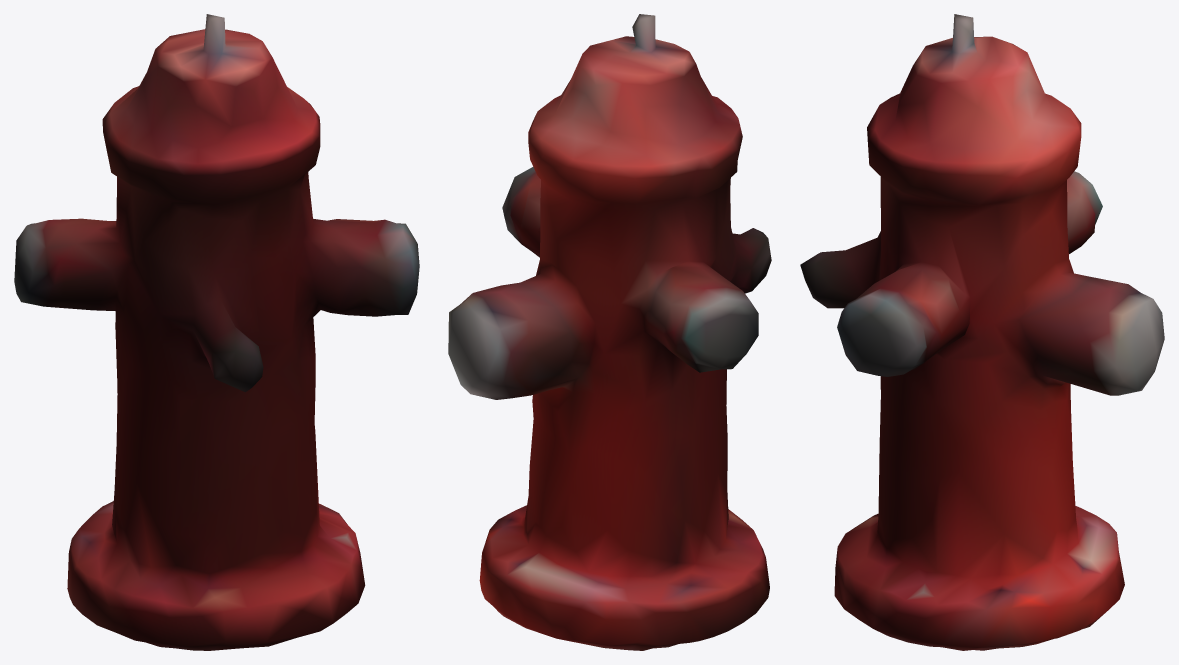
File: gen_hydrant_lowpoly.mobile-high.glb
3 renders of one model, left to right at view 1: azimuth 30°, elevation 25°; view 2: azimuth 150°, elevation 25°; view 3: azimuth 270°, elevation 25°, orthographic. The views are drawn at different scales.
Visible parts, largest first — view 1: gen_hydrant_lowpoly; view 2: gen_hydrant_lowpoly; view 3: gen_hydrant_lowpoly.
Part boxes in pixels (x1=…): gen_hydrant_lowpoly: x1=14, y1=14, x2=419, y2=650; gen_hydrant_lowpoly: x1=448, y1=14, x2=771, y2=650; gen_hydrant_lowpoly: x1=800, y1=14, x2=1164, y2=650.
Bounding box in the file's own units: 0.4523 × 0.7962 × 0.4566.
